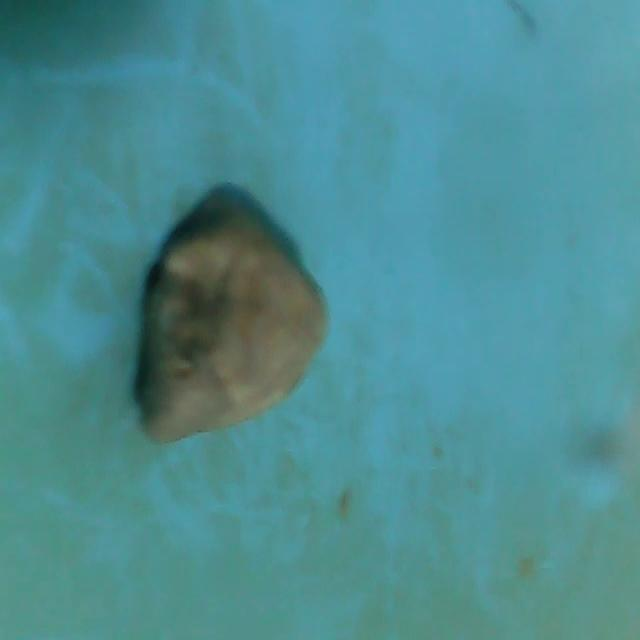rock: (128, 188, 333, 452)
